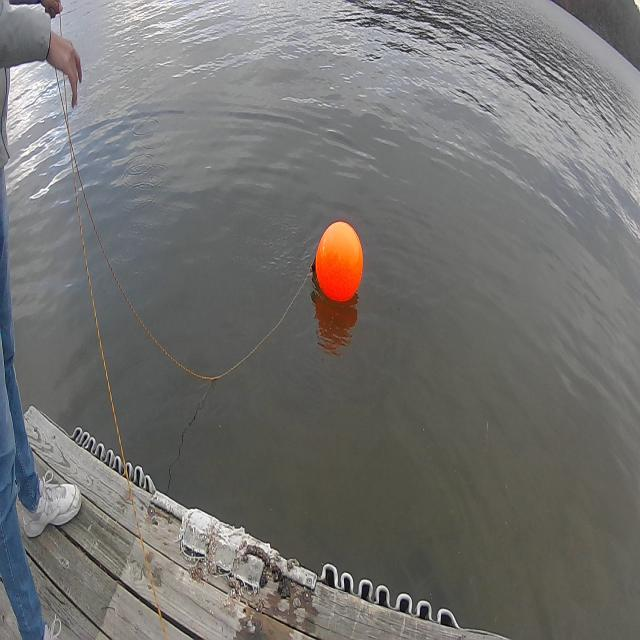Buoy: (308, 203, 366, 316)
